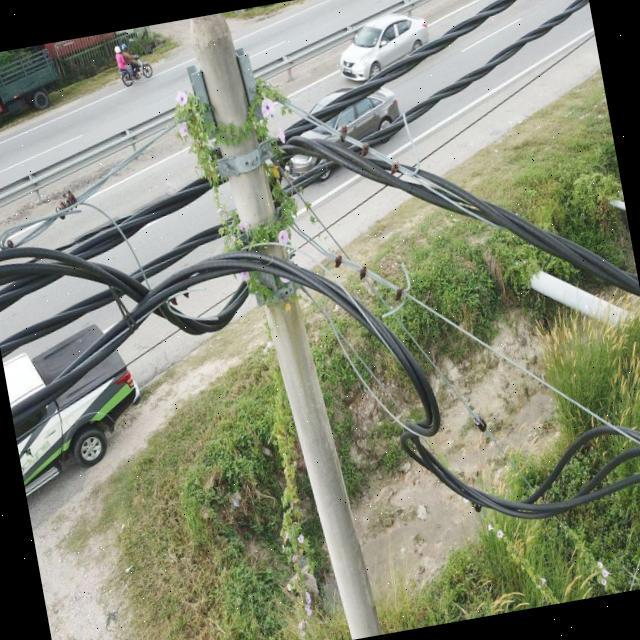critical vegetation: (156, 43, 386, 638)
